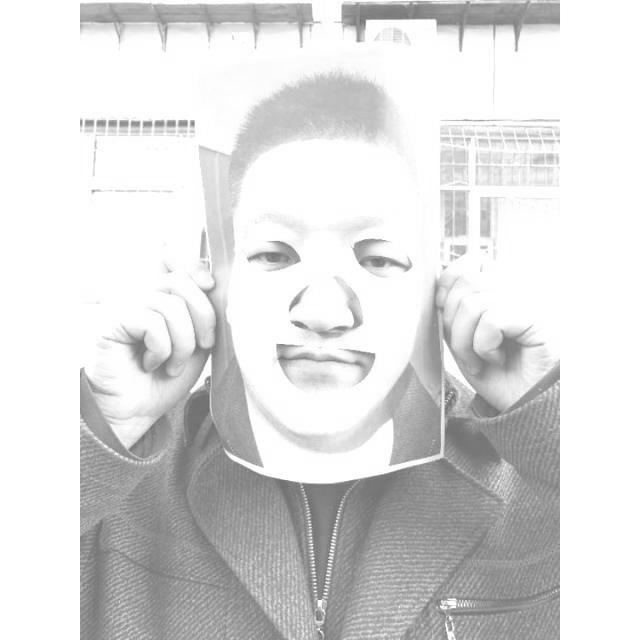fake: (190, 42, 450, 482)
